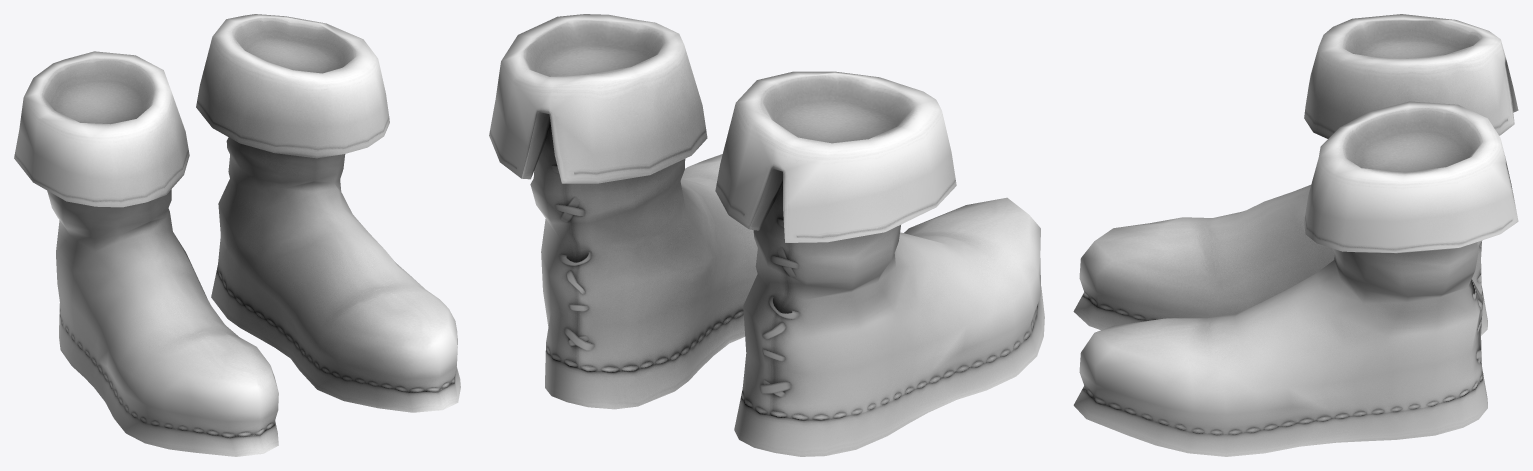
File: 041_leather_boots_lp.fbx
3 renders of one model, left to right at view 1: azimuth 30°, elevation 25°; view 2: azimuth 150°, elevation 25°; view 3: azimuth 270°, elevation 25°, orthographic. The views are drawn at different scales.
Visible parts, largest first — view 1: 041_leather_boots; view 2: 041_leather_boots; view 3: 041_leather_boots.
Part boxes in pixels (<box>): 041_leather_boots: <box>14,14,460,456</box>; 041_leather_boots: <box>489,14,1044,456</box>; 041_leather_boots: <box>1073,14,1518,456</box>.
Bounding box in the file's own units: 37.69 × 28.81 × 39.69.
